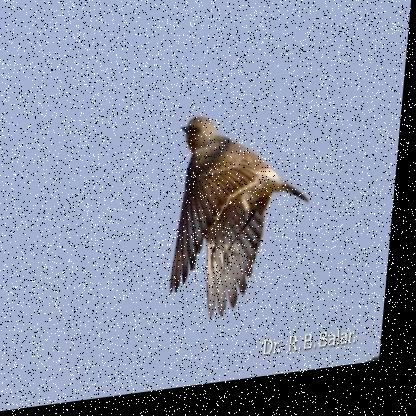Burung: (168, 96, 325, 334)
